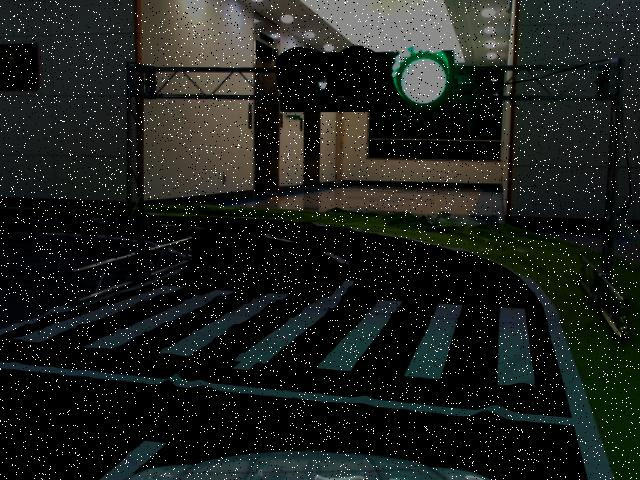crosswalk: (9, 283, 536, 389)
traffic light-green-: (275, 47, 457, 112)
